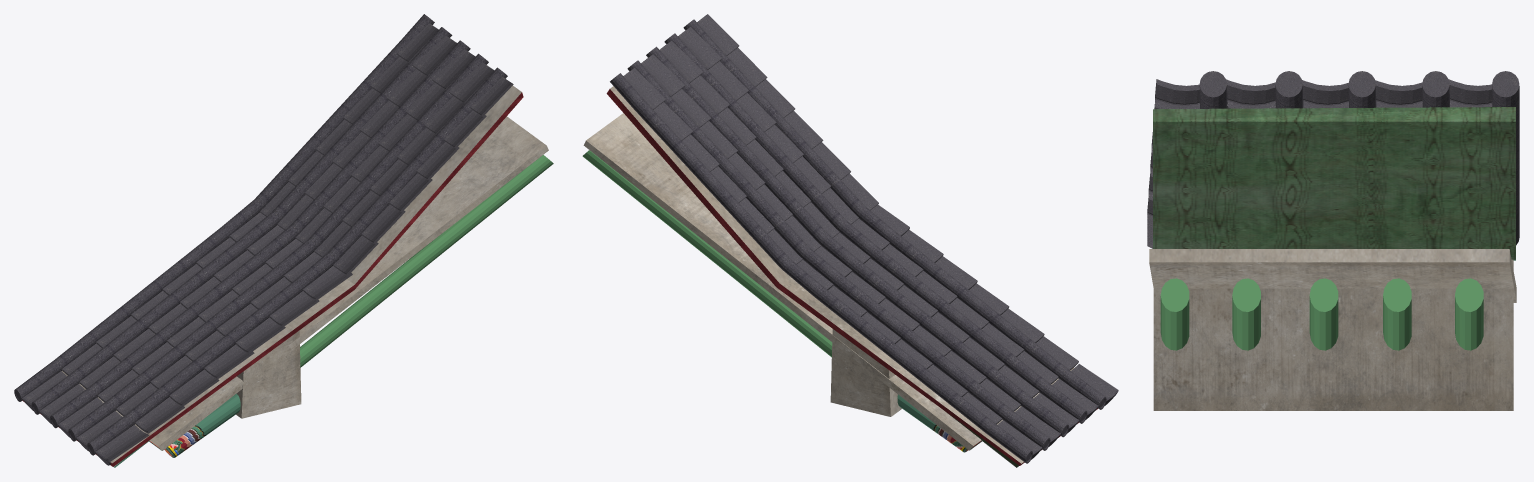
The model's file is SM_Roof_3.fbx.
The picture shows the model from 3 angles, left to right: view 1: azimuth 30°, elevation 25°; view 2: azimuth 150°, elevation 25°; view 3: azimuth 270°, elevation 25°; orthographic projection. The views are drawn at different scales.
Parts seen in each view (by area): view 1: SM_Roof_3; view 2: SM_Roof_3; view 3: SM_Roof_3.
Boxes of the visible parts, x1,y1,x2,y2 form: SM_Roof_3: (14, 14, 553, 467); SM_Roof_3: (582, 14, 1118, 467); SM_Roof_3: (1147, 71, 1519, 410).
Bounding box in the file's own units: 810 × 288 × 513.
Materials: 5 (5 with a texture image).
